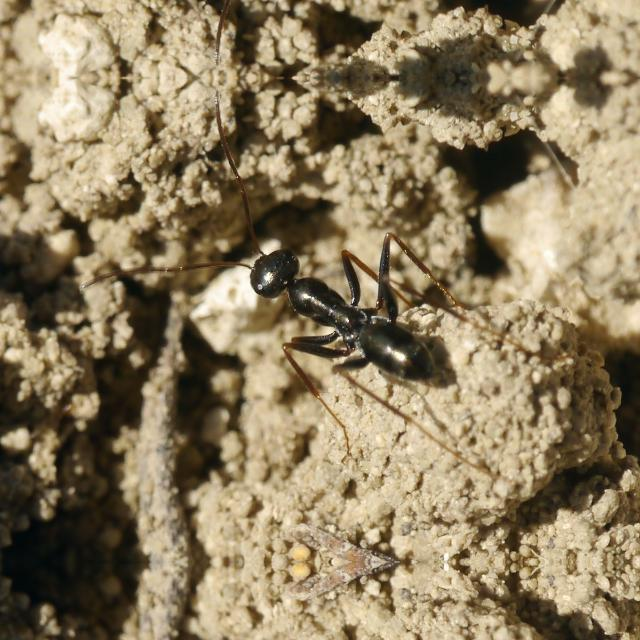Cataglyphis: (183, 212, 472, 416)
